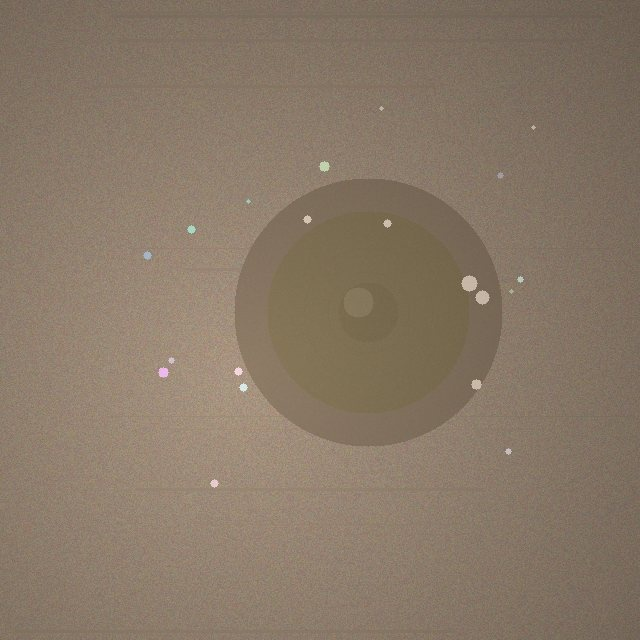overburn: (234, 178, 502, 446)
